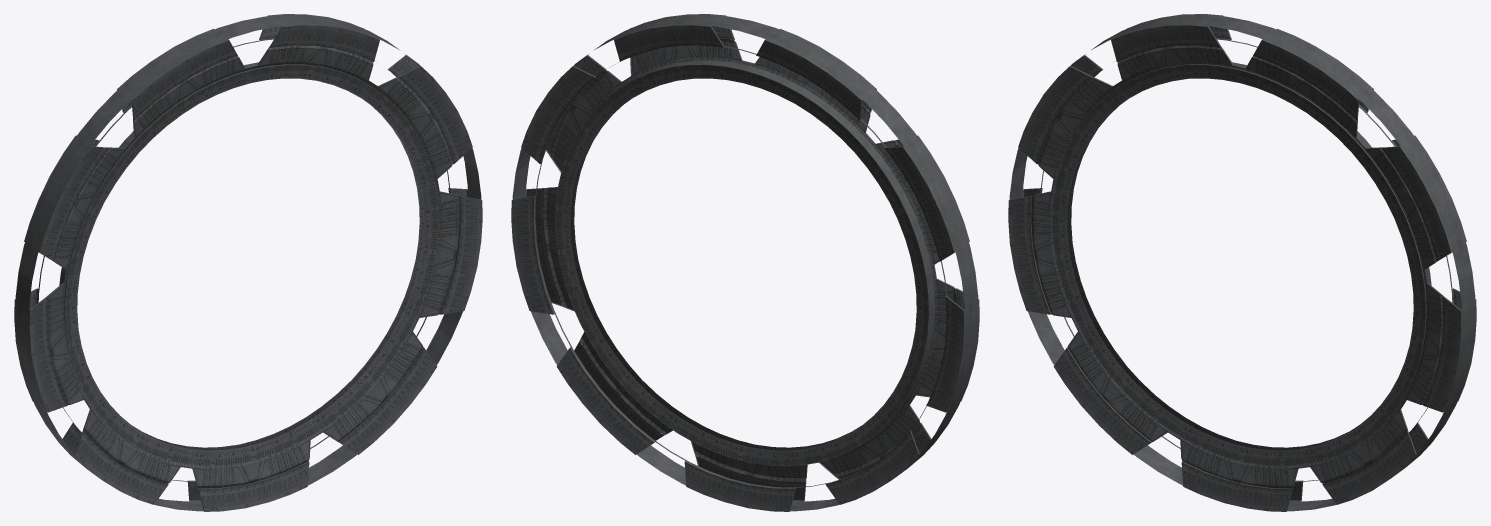
The model's file is MilkywayRingSimple.obj.
3 renders of one model, left to right at view 1: azimuth 30°, elevation 25°; view 2: azimuth 150°, elevation 25°; view 3: azimuth 330°, elevation 25°, orthographic.
Visible parts, largest first — view 1: Frame; view 2: Frame; view 3: Frame.
Part boxes in pixels (box(x1,y1,x2,y2)): Frame: box(14, 14, 482, 511); Frame: box(511, 14, 979, 511); Frame: box(1008, 14, 1476, 511).
Size of the model in its own units: 2.69 by 2.69 by 0.16.
Materials: 1 (1 with a texture image).
